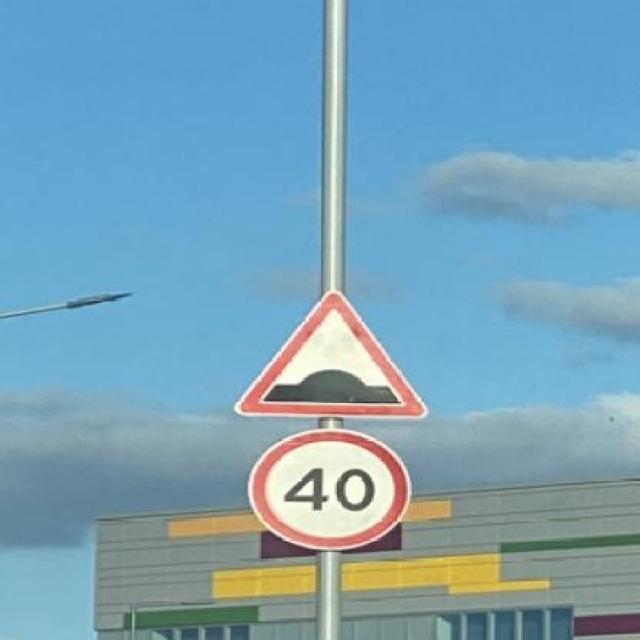forb_speed_over_40: (253, 428, 412, 550)
